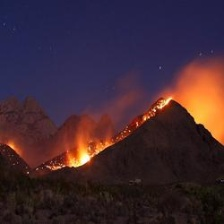fire: (60, 149, 114, 170), (144, 93, 176, 124)
